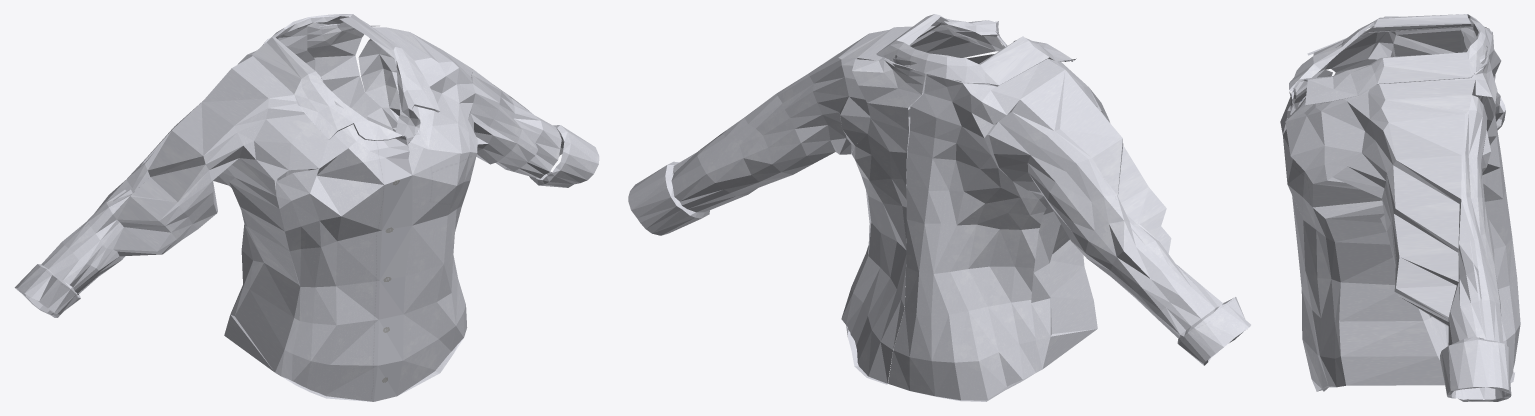
The model's file is shirt_fitted_v2.glb.
The picture shows the model from 3 angles, left to right: view 1: azimuth 30°, elevation 25°; view 2: azimuth 150°, elevation 25°; view 3: azimuth 270°, elevation 25°; orthographic projection. The views are drawn at different scales.
Visible parts, largest first — view 1: Shirt_lo_M_cloth_0; view 2: Shirt_lo_M_cloth_0; view 3: Shirt_lo_M_cloth_0.
Part boxes in pixels (left/top/right/bottom): Shirt_lo_M_cloth_0: left=14, top=14, right=599, bottom=401; Shirt_lo_M_cloth_0: left=628, top=14, right=1250, bottom=401; Shirt_lo_M_cloth_0: left=1280, top=14, right=1520, bottom=401.
Bounding box in the file's own units: 1044 × 557 × 353.
1 material, 1 textured.
